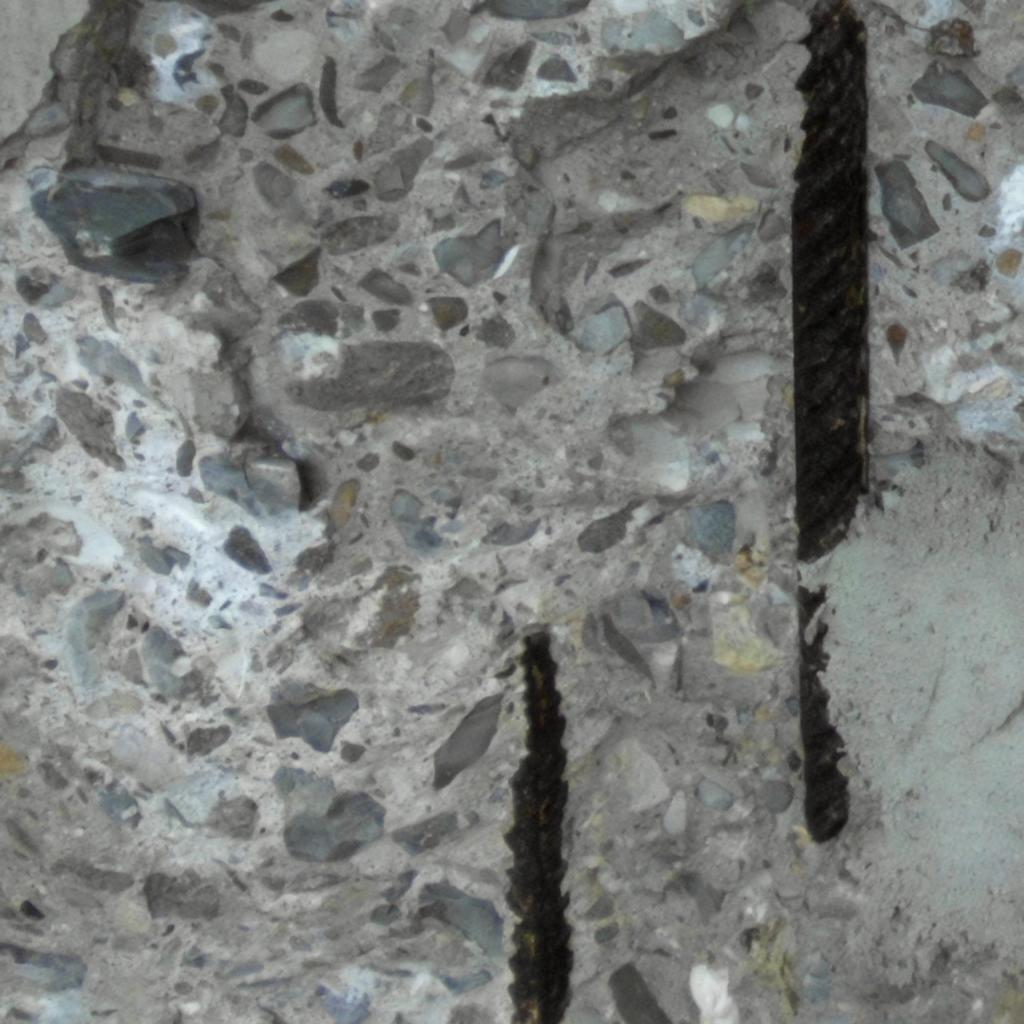exposed_rebar: (792, 0, 870, 562), (506, 630, 572, 1024), (798, 584, 848, 841)
spalling: (0, 0, 1024, 1024)
